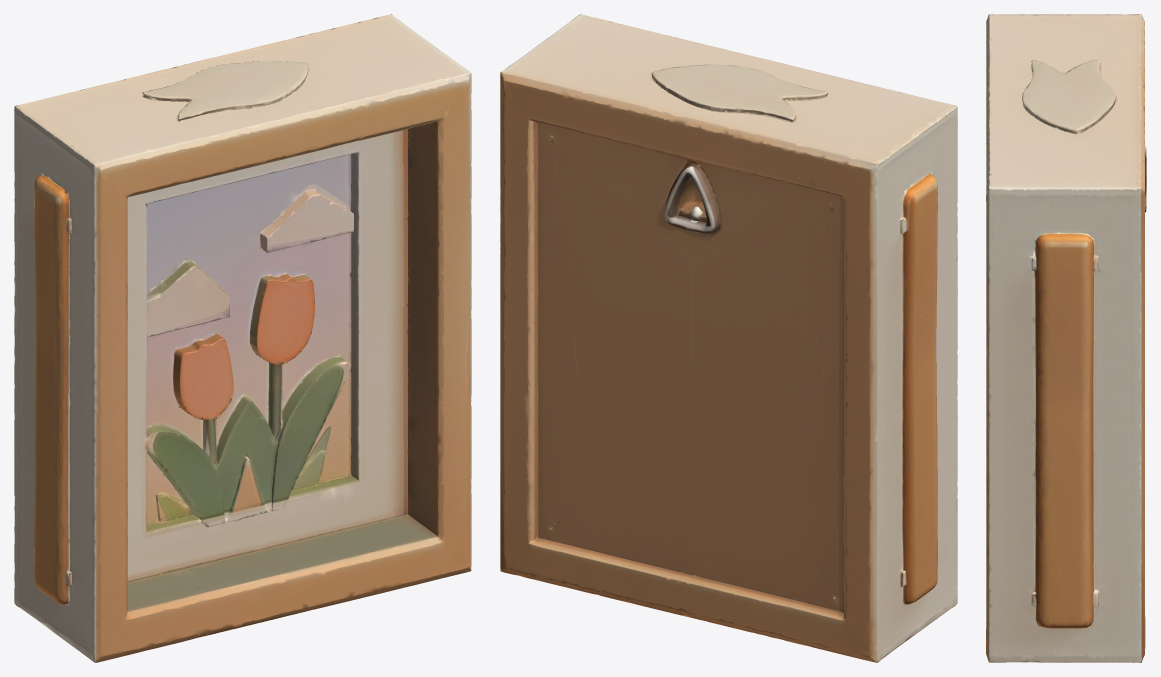
File: frame2.glb
3 views of the same model, side by side, from view 1: azimuth 30°, elevation 25°; view 2: azimuth 150°, elevation 25°; view 3: azimuth 270°, elevation 25° (orthographic). The views are drawn at different scales.
Parts seen in each view (by area): view 1: tripo_node_0d2da519-fefe-447c-8f22-a24fd52a04cb; view 2: tripo_node_0d2da519-fefe-447c-8f22-a24fd52a04cb; view 3: tripo_node_0d2da519-fefe-447c-8f22-a24fd52a04cb.
Part boxes in pixels (x1,y1,x2,y2): tripo_node_0d2da519-fefe-447c-8f22-a24fd52a04cb: [14, 14, 471, 662]; tripo_node_0d2da519-fefe-447c-8f22-a24fd52a04cb: [500, 14, 957, 662]; tripo_node_0d2da519-fefe-447c-8f22-a24fd52a04cb: [986, 14, 1146, 662].
Bounding box in the file's own units: 0.8196 × 0.9999 × 0.3039.
Materials: 1 (1 with a texture image).
